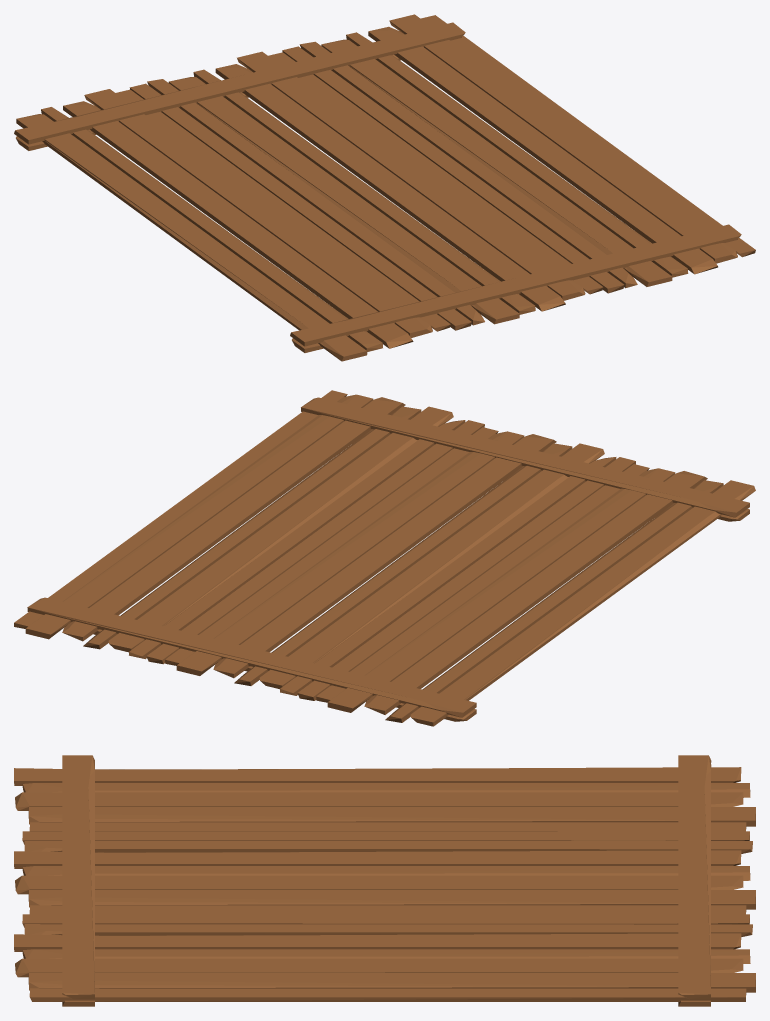
Rendered from pk-halberstram-sm-gate-seperated.glb.
3 renders of one model, top to bottom at view 1: azimuth 30°, elevation 25°; view 2: azimuth 150°, elevation 25°; view 3: azimuth 270°, elevation 25°, orthographic. The views are drawn at different scales.
Parts seen in each view (by area): view 1: Object296; view 2: Object296; view 3: Object296.
Boxes of the visible parts, x1,y1,x2,y2 form: Object296: (14,14,755,361); Object296: (14,390,755,726); Object296: (14,755,755,1006).
Bounding box in the file's own units: 5.03 × 0.1219 × 6.6.
